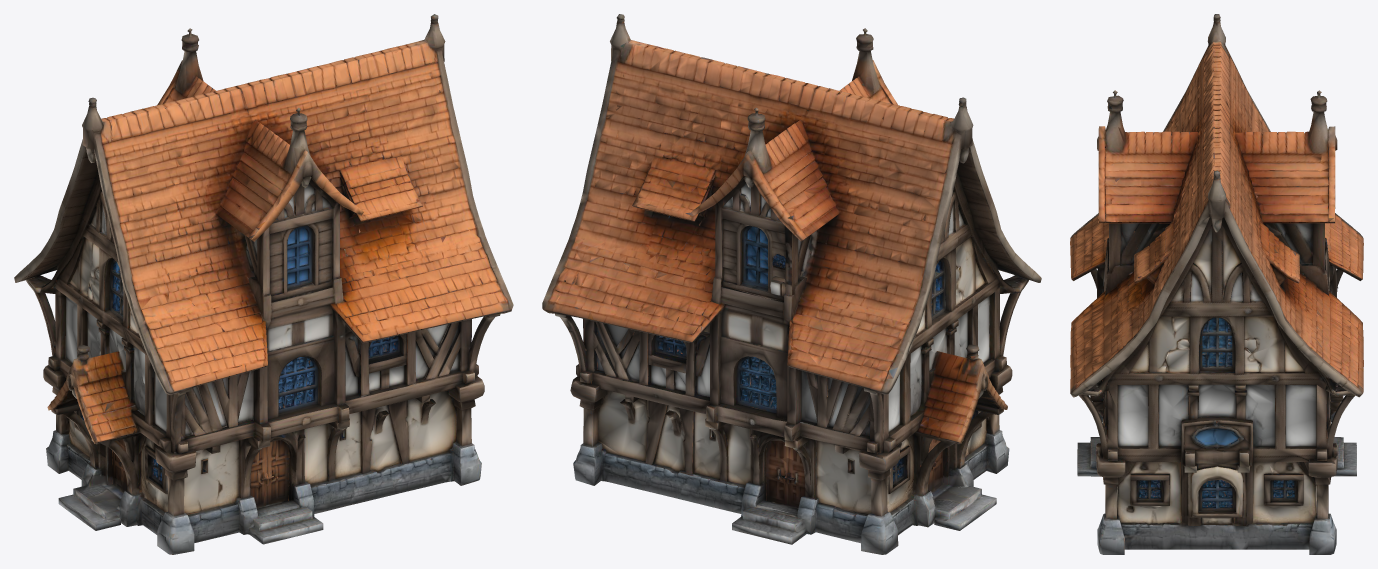
Rendered from Medieval_Cottage.glb.
3 renders of one model, left to right at view 1: azimuth 30°, elevation 25°; view 2: azimuth 150°, elevation 25°; view 3: azimuth 270°, elevation 25°, orthographic. The views are drawn at different scales.
Parts seen in each view (by area): view 1: Medieval_Cottage; view 2: Medieval_Cottage; view 3: Medieval_Cottage.
Part boxes in pixels (x1,y1,x2,y2): Medieval_Cottage: (14, 14, 513, 554); Medieval_Cottage: (542, 14, 1041, 554); Medieval_Cottage: (1070, 14, 1363, 554).
Size of the model in its own units: 1.88 by 2 by 1.36.
1 material, 1 textured.
